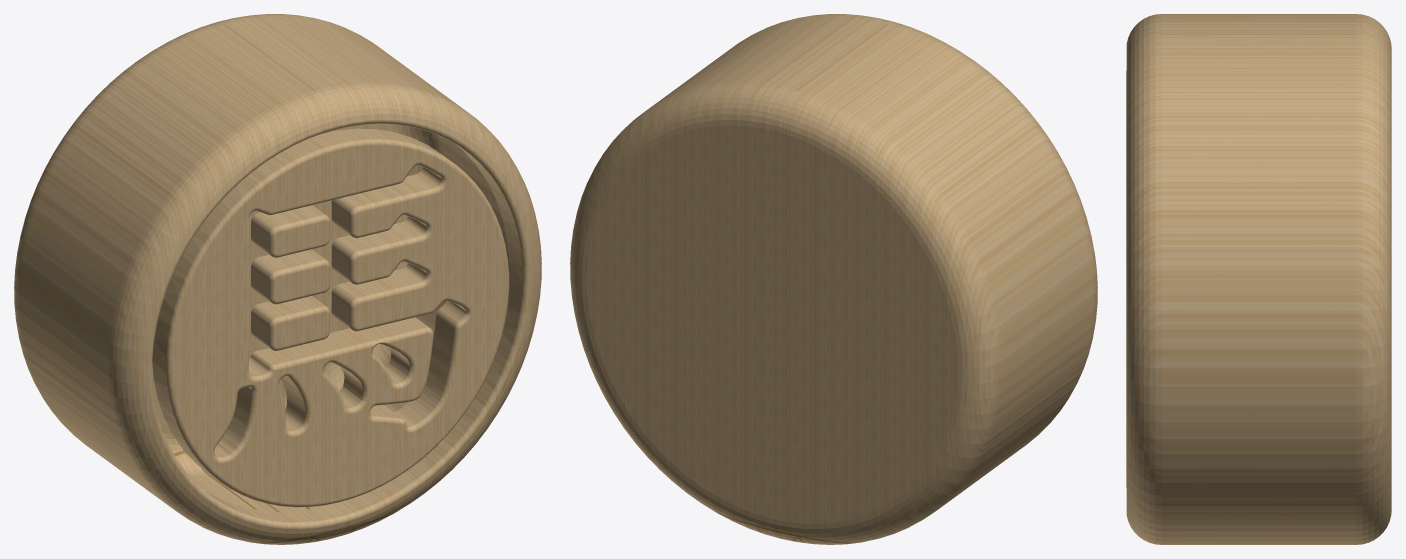
Rendered from h01_chess_black_horse_wood.obj.
3 renders of one model, left to right at view 1: azimuth 30°, elevation 25°; view 2: azimuth 150°, elevation 25°; view 3: azimuth 270°, elevation 25°, orthographic. The views are drawn at different scales.
Bounding box in the file's own units: 0.03 × 0.03 × 0.015.
1 material, 1 textured.
